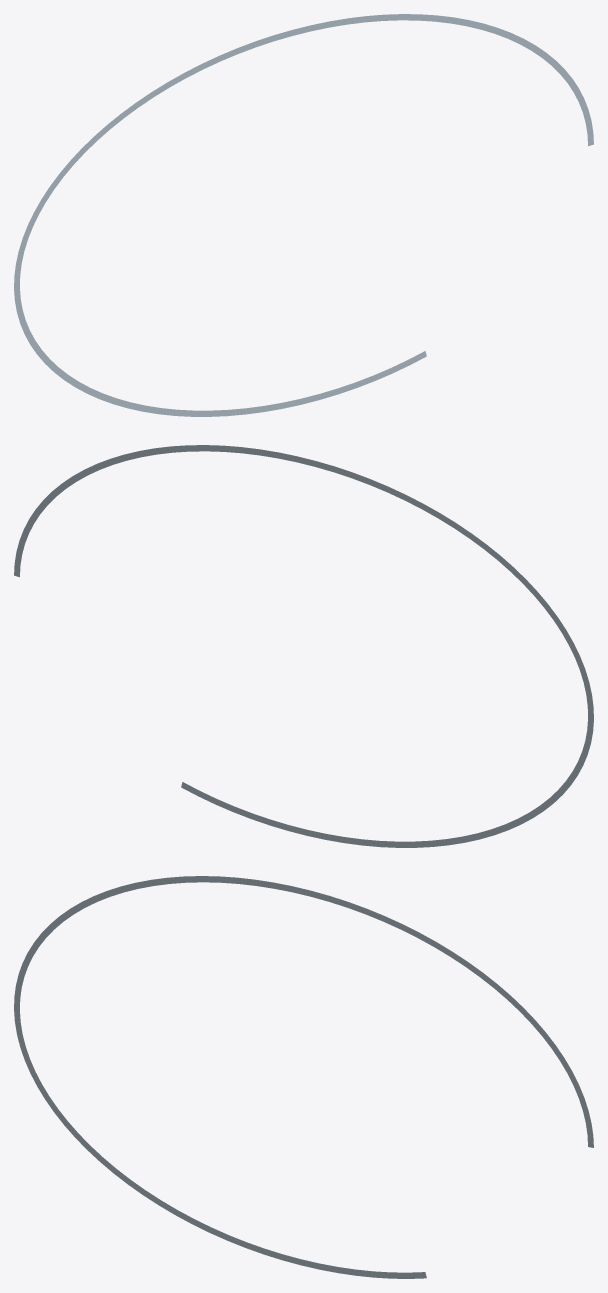
The model's file is 2083_PrimordialShower_Electro_Counter_AncientCurvedGlyph_0.fbx.
The picture shows the model from 3 angles, top to bottom: view 1: azimuth 30°, elevation 25°; view 2: azimuth 150°, elevation 25°; view 3: azimuth 330°, elevation 25°; orthographic projection.
Parts seen in each view (by area): view 1: PART_AncientCurvedGlyph_0; view 2: PART_AncientCurvedGlyph_0; view 3: PART_AncientCurvedGlyph_0.
Boxes of the visible parts, <box> form: PART_AncientCurvedGlyph_0: <box>14,14,593,416</box>; PART_AncientCurvedGlyph_0: <box>14,445,593,847</box>; PART_AncientCurvedGlyph_0: <box>14,876,593,1278</box>.
Bounding box in the file's own units: 687 × 427 × 6.96e-05.
